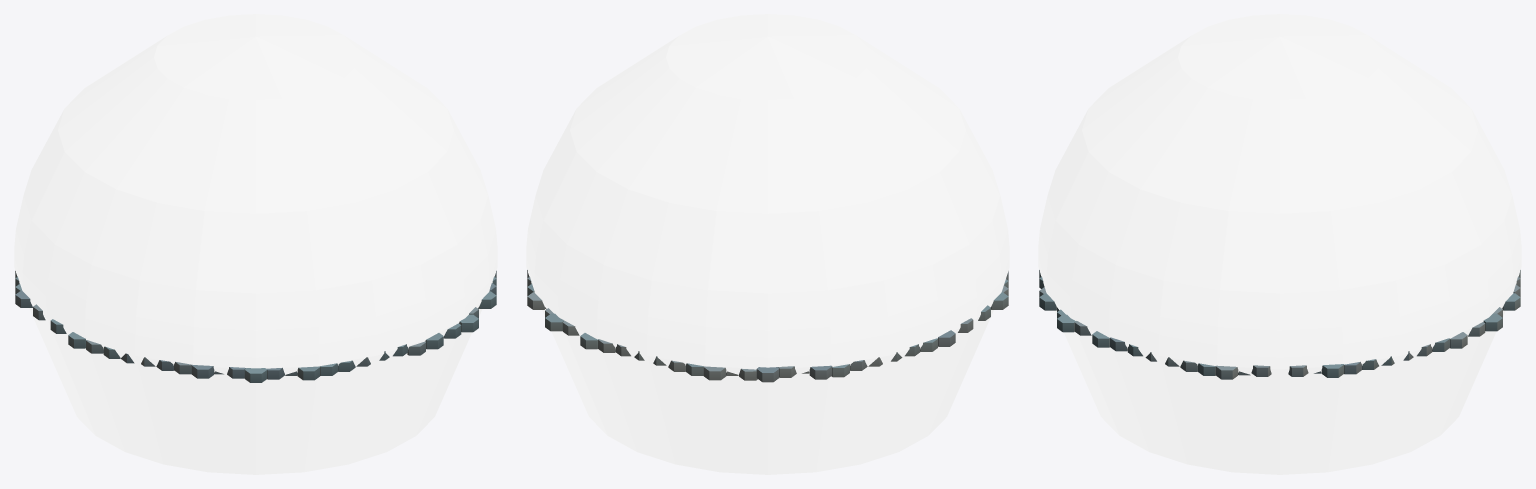
The model's file is arena.glb.
3 renders of one model, left to right at view 1: azimuth 30°, elevation 25°; view 2: azimuth 150°, elevation 25°; view 3: azimuth 270°, elevation 25°, orthographic.
Parts seen in each view (by area): view 1: scene_sky_dome; view 2: scene_sky_dome; view 3: scene_sky_dome.
Part boxes in pixels (x1,y1,x2,y2): scene_sky_dome: [14, 14, 497, 474]; scene_sky_dome: [526, 14, 1009, 474]; scene_sky_dome: [1038, 14, 1521, 474].
Size of the model in its own units: 192 by 156 by 190.
